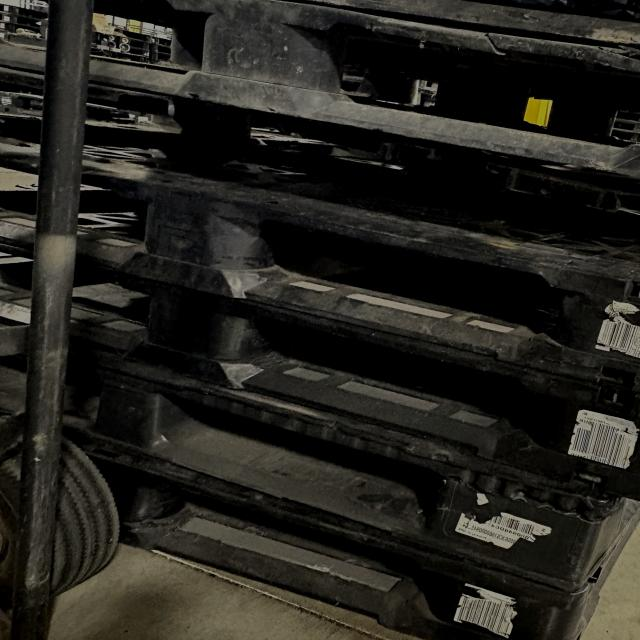igps: (0, 229, 640, 508), (0, 326, 640, 600), (0, 152, 636, 408), (0, 54, 640, 286), (0, 418, 596, 640), (0, 0, 640, 191)
